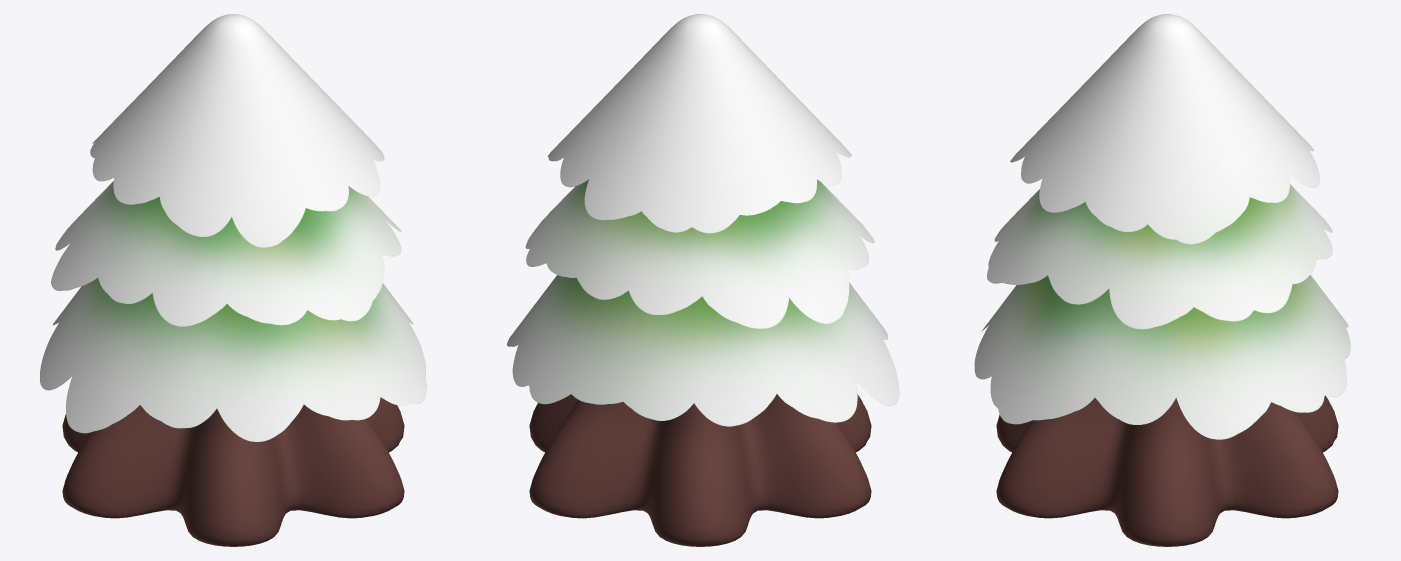
The model's file is TreeSnow.fbx.
3 views of the same model, side by side, from view 1: azimuth 30°, elevation 25°; view 2: azimuth 150°, elevation 25°; view 3: azimuth 270°, elevation 25° (orthographic).
Parts seen in each view (by area): view 1: Cylinder.012, Cylinder.010, Cylinder.008, Cylinder.011; view 2: Cylinder.012, Cylinder.010, Cylinder.008, Cylinder.011; view 3: Cylinder.012, Cylinder.010, Cylinder.008, Cylinder.011.
Boxes of the visible parts, x1,y1,x2,y2 form: Cylinder.012: (90, 14, 384, 247); Cylinder.010: (39, 278, 426, 441); Cylinder.008: (62, 397, 404, 546); Cylinder.011: (51, 181, 401, 326); Cylinder.012: (547, 14, 851, 233); Cylinder.010: (507, 275, 899, 426); Cylinder.008: (529, 394, 871, 546); Cylinder.011: (525, 179, 874, 328); Cylinder.012: (1010, 14, 1319, 244); Cylinder.010: (974, 275, 1350, 439); Cylinder.008: (996, 395, 1338, 546); Cylinder.011: (987, 184, 1332, 329).
Bounding box in the file's own units: 428 × 490 × 430.
3 materials, 2 textured.
